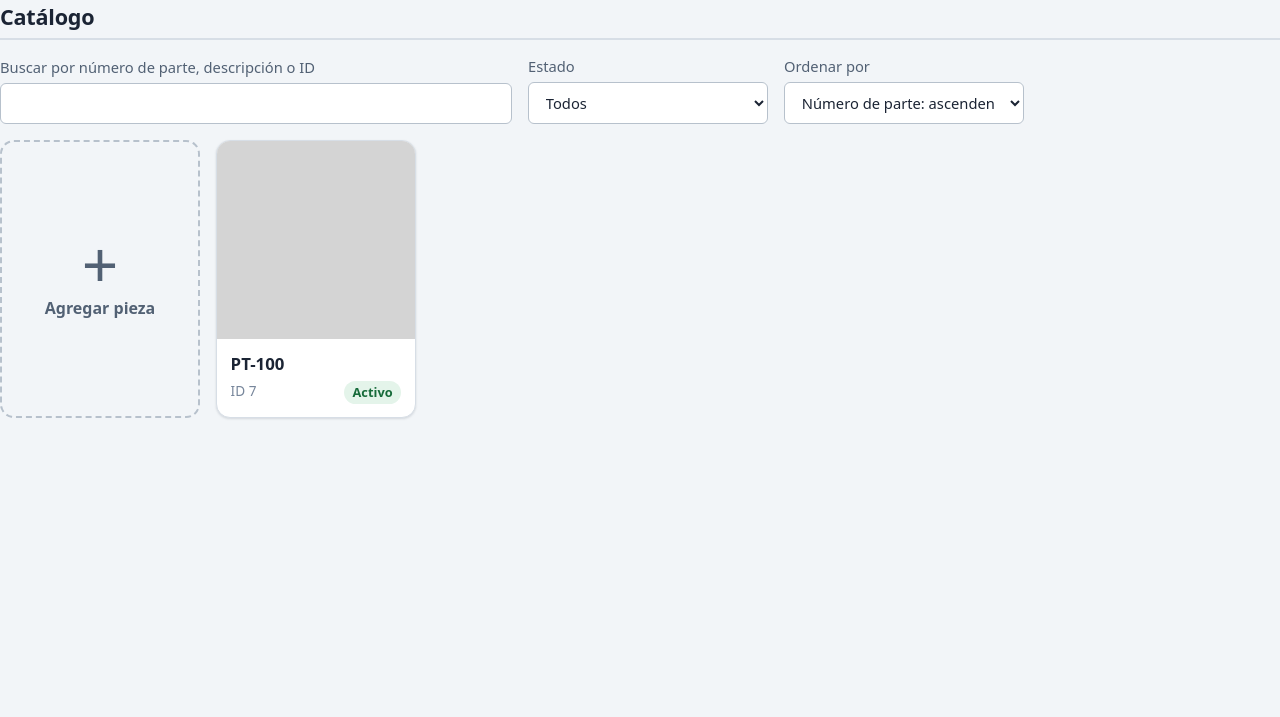
it: omits the lower tolerance so the API can default it to the upper tolerance
This screenshot has width=1280, height=717.
Click the button with aria-label "Ver PT-100".
click(316, 279)  # box [216,140,416,418]
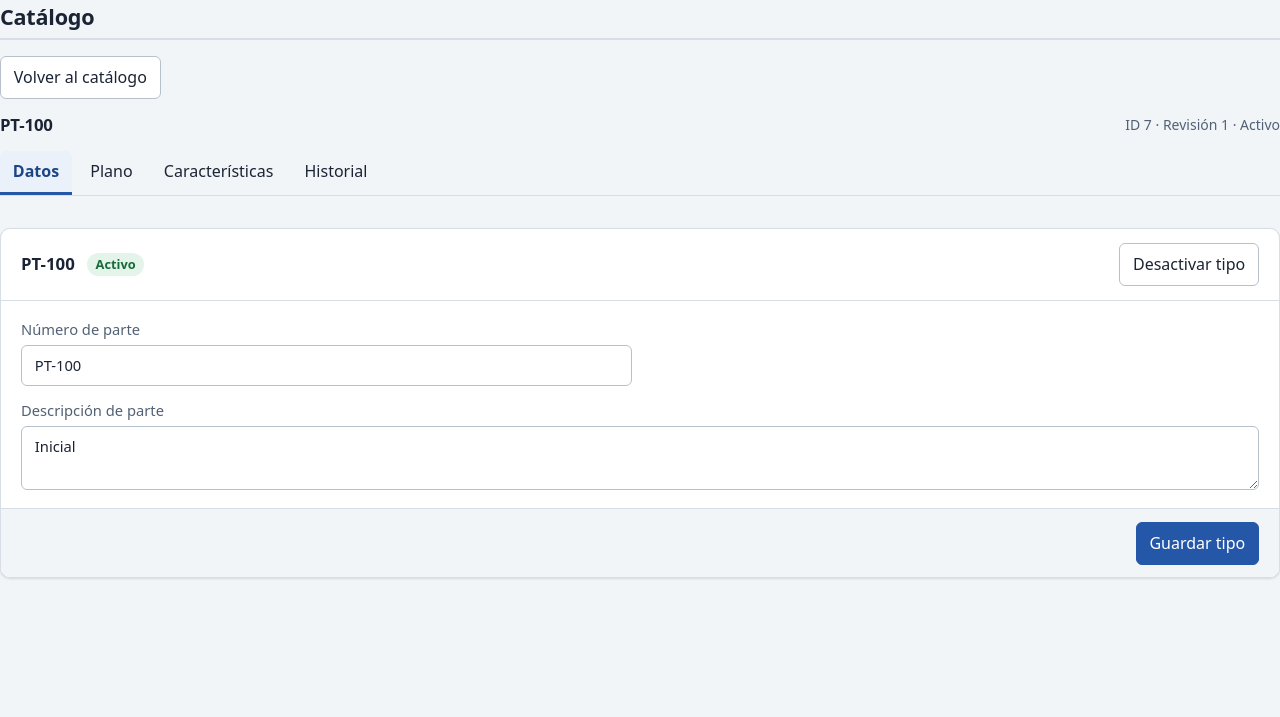
Click the tab "Características".
click(219, 173)  # box [151,151,286,195]
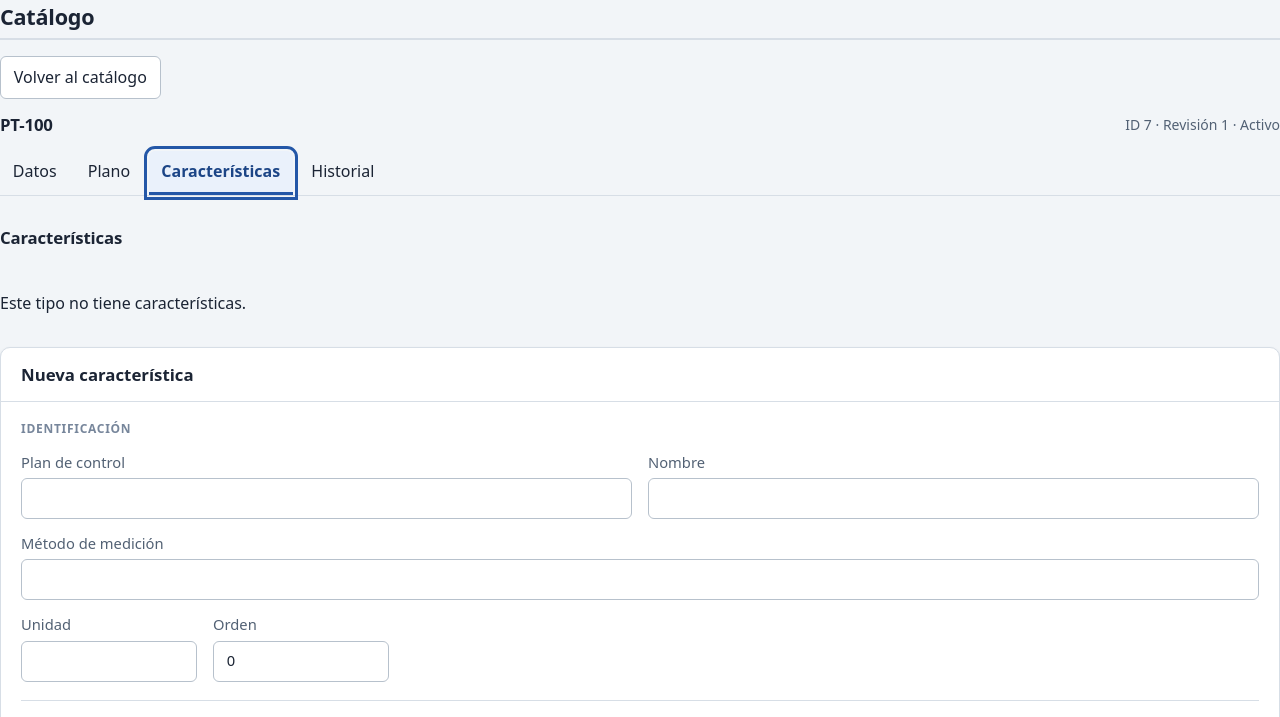
Type "D1" into the field labelled "Plan de control".
click(326, 498); type("D1")  # box [21,478,632,519]
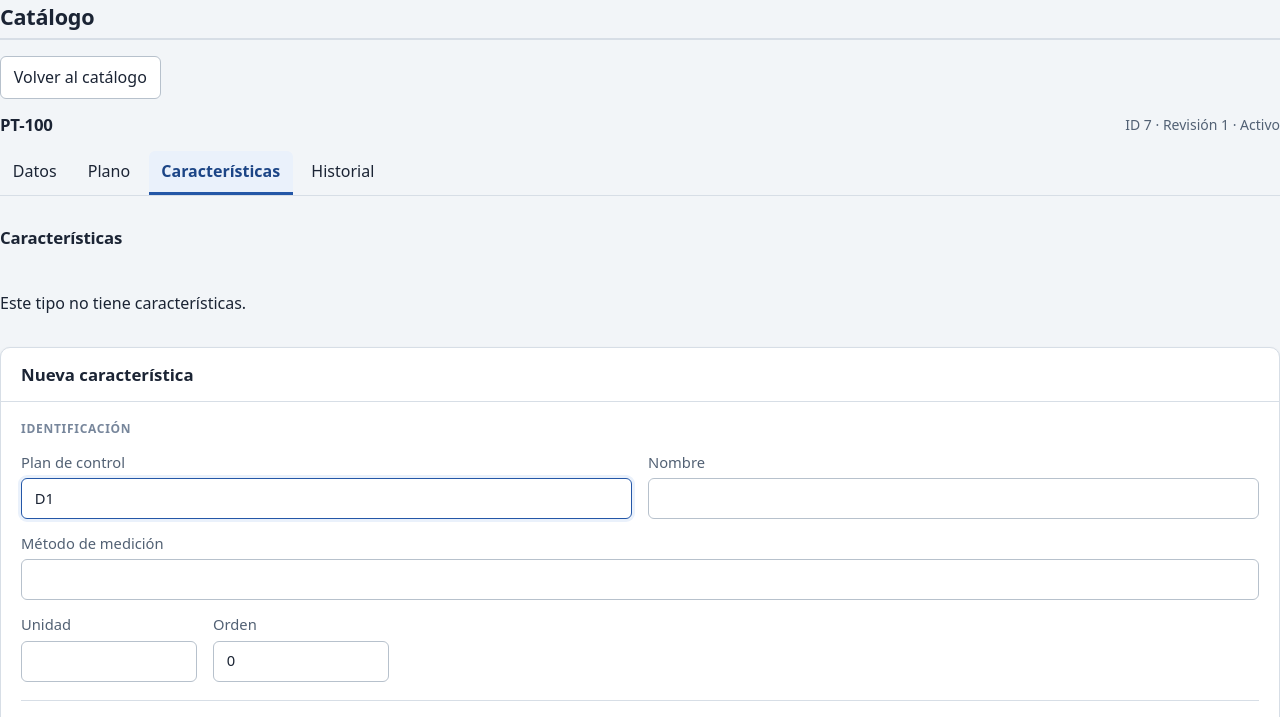
Type "Micrómetro" into the field labelled "Método de medición".
click(640, 580); type("Micrómetro")  # box [21,559,1259,600]
(page scrolled)
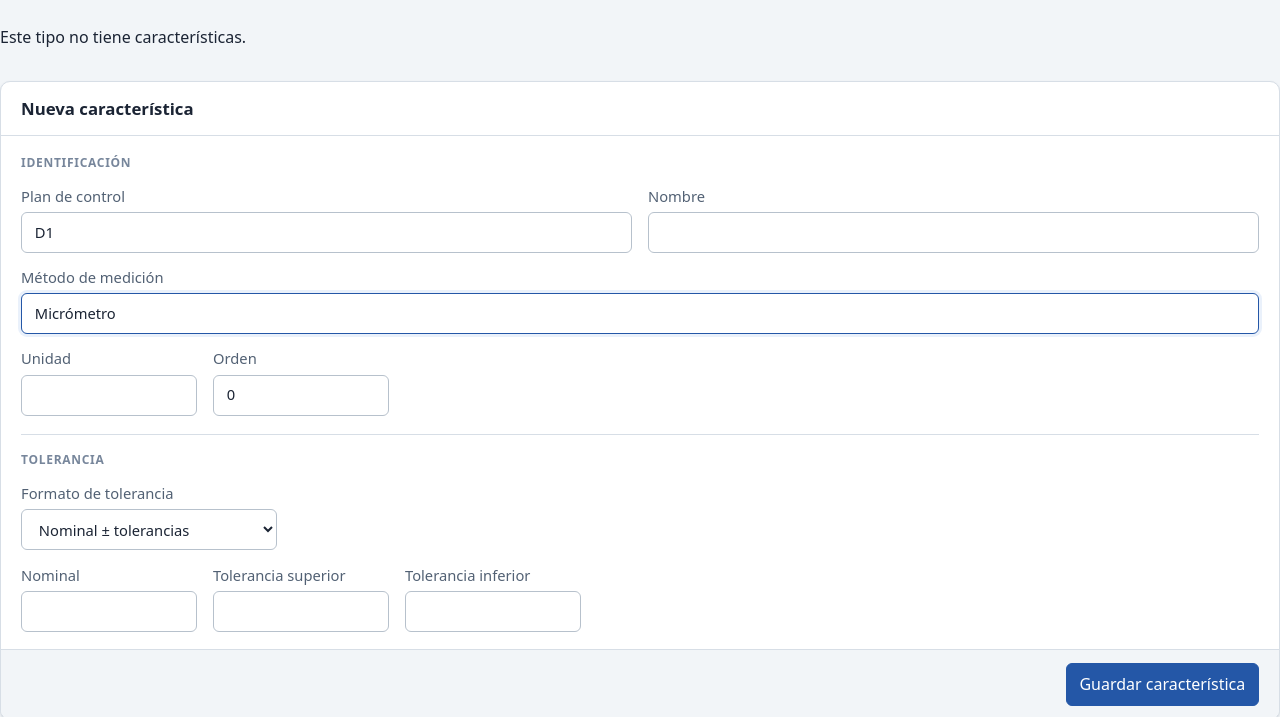
Type "10" into the number field labelled "Nominal".
click(109, 611); type("10")  # box [21,591,197,632]
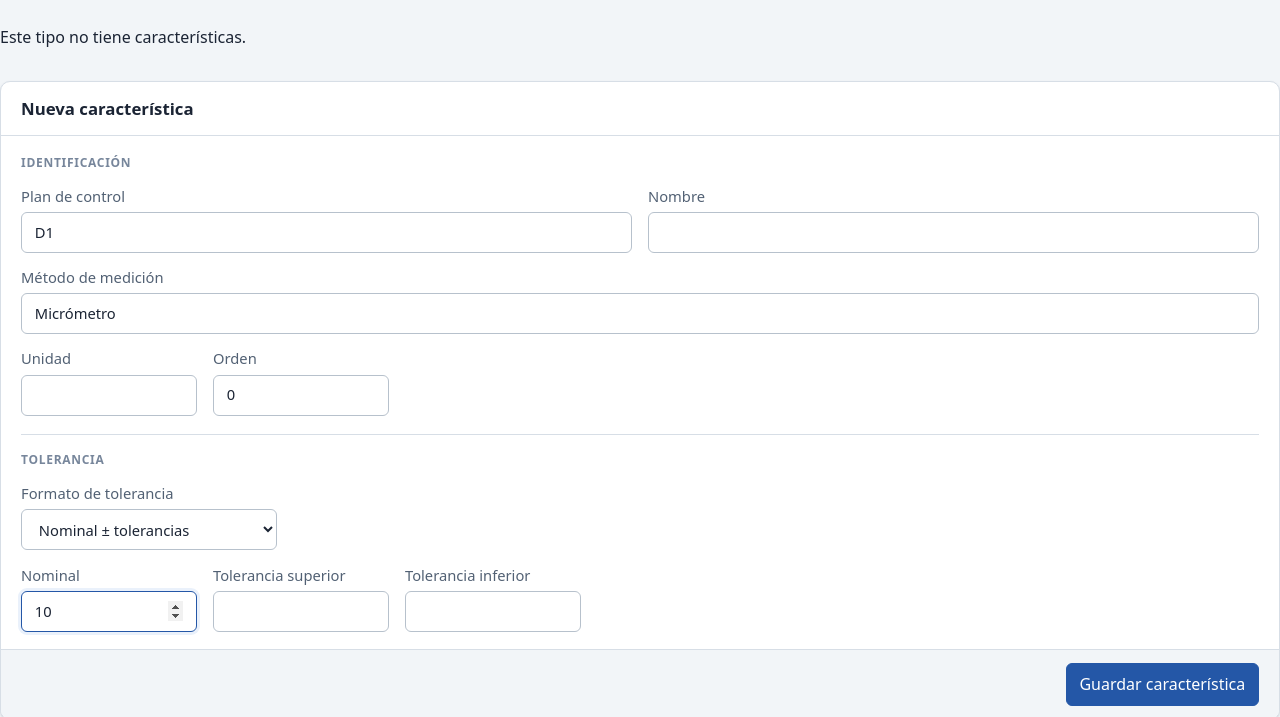
Type "0.2" into the number field labelled "Tolerancia superior".
click(301, 611); type("0.2")  # box [213,591,389,632]
Click the button "Guardar característica".
click(1162, 685)  # box [1066,663,1259,706]
(page scrolled)
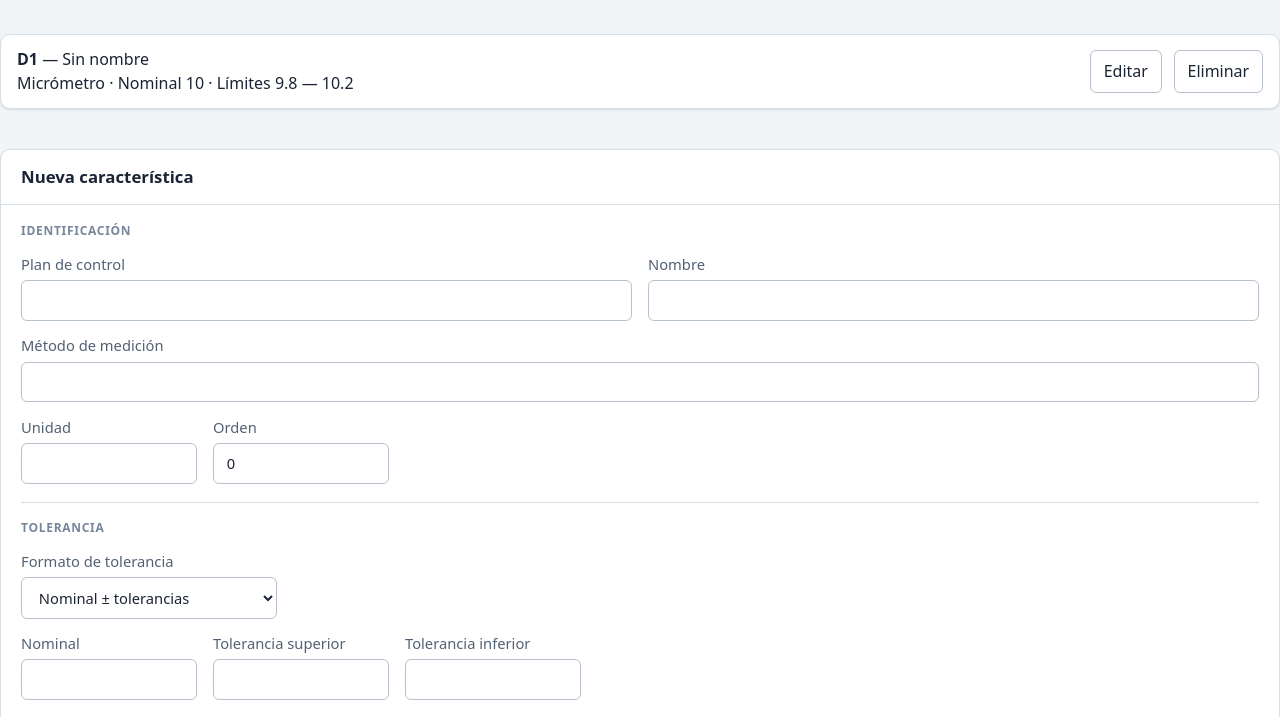
Expected: the text "Límites 9.8 — 10.2" is shown, [17,48,354,95]
